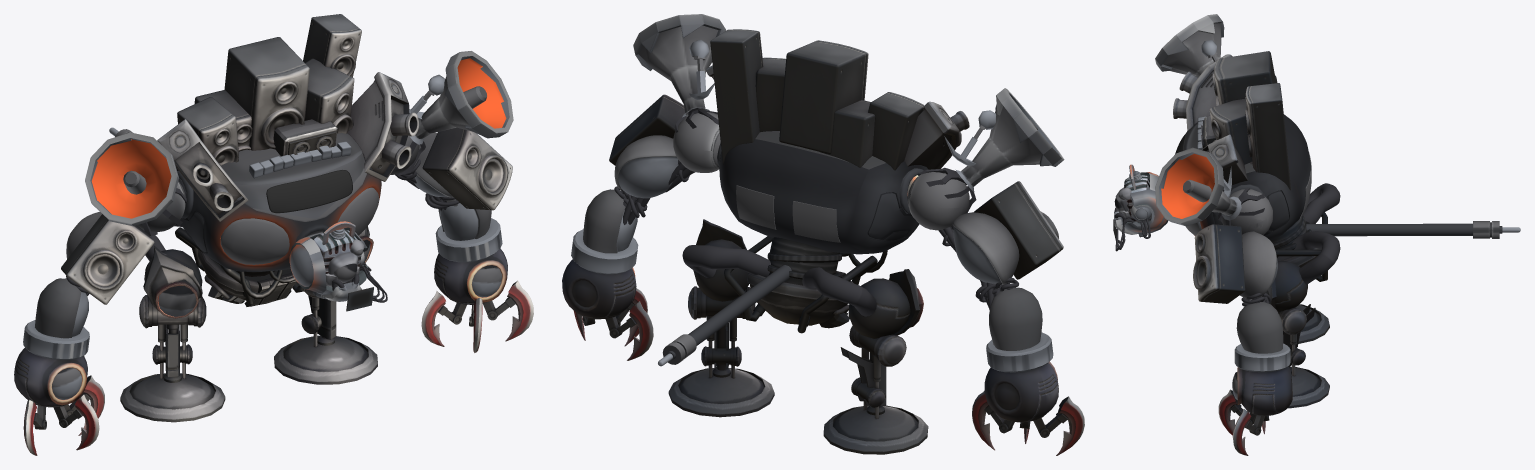
File: McMD_enemy.fbx
3 renders of one model, left to right at view 1: azimuth 30°, elevation 25°; view 2: azimuth 150°, elevation 25°; view 3: azimuth 270°, elevation 25°, orthographic. The views are drawn at different scales.
Parts seen in each view (by area): view 1: pasted__polySurface40, McMD_speaker3_cover_pasted__polySurface18, polySurface45, speaker9, polySurface59, McMD_speaker3_cover_pasted__polySurface14, polySurface62, pasted__polySurface18, ude3, cover1, pCylinder25, McMD_speaker3_cover_pasted__polySurface17 (+21 smaller); view 2: polySurface45, pasted__polySurface40, polySurface59, McMD_speaker3_cover_pasted__polySurface14, ude4, pasted__polySurface18, McMD_speaker3_cover_pasted__polySurface18, ude3, McMD_speaker4_cover_pasted__polySurface9, kata1, pasted__pCylinder22, polySurface51 (+21 smaller); view 3: pasted__polySurface40, polySurface45, McMD_speaker3_cover_pasted__polySurface18, McMD_speaker4_cover_pasted__polySurface9, speaker9, polySurface62, pasted__pasted__pasted__pCylinder17, pasted__pCylinder22, McMD_speaker3_cover_pasted__polySurface14, pasted__polySurface18, ude3, polySurface59 (+9 smaller).
Part boxes in pixels (x1,y1,x2,y2): pasted__polySurface40: [85, 51, 513, 235]; McMD_speaker3_cover_pasted__polySurface18: [61, 127, 512, 304]; polySurface45: [176, 133, 381, 271]; speaker9: [157, 72, 418, 221]; polySurface59: [120, 324, 377, 422]; McMD_speaker3_cover_pasted__polySurface14: [224, 37, 309, 150]; polySurface62: [289, 221, 387, 311]; pasted__polySurface18: [14, 248, 507, 407]; ude3: [35, 203, 491, 338]; cover1: [220, 187, 379, 264]; pCylinder25: [23, 218, 502, 360]; McMD_speaker3_cover_pasted__polySurface17: [305, 58, 354, 133]; polySurface45: [717, 131, 928, 254]; pasted__polySurface40: [633, 14, 1064, 212]; polySurface59: [668, 325, 928, 454]; McMD_speaker3_cover_pasted__polySurface14: [779, 40, 868, 153]; ude4: [614, 135, 1019, 284]; pasted__polySurface18: [562, 259, 1058, 422]; McMD_speaker3_cover_pasted__polySurface18: [609, 94, 1063, 279]; ude3: [583, 189, 1042, 350]; McMD_speaker4_cover_pasted__polySurface9: [710, 29, 763, 164]; kata1: [673, 112, 969, 230]; pasted__pCylinder22: [682, 245, 876, 316]; polySurface51: [848, 269, 923, 338]; pasted__polySurface40: [1155, 14, 1264, 226]; polySurface45: [1184, 114, 1311, 240]; McMD_speaker3_cover_pasted__polySurface18: [1193, 224, 1245, 303]; McMD_speaker4_cover_pasted__polySurface9: [1245, 83, 1290, 190]; speaker9: [1173, 54, 1247, 184]; polySurface62: [1113, 164, 1167, 251]; pasted__pasted__pasted__pCylinder17: [1306, 221, 1520, 238]; pasted__pCylinder22: [1277, 183, 1340, 284]; McMD_speaker3_cover_pasted__polySurface14: [1212, 51, 1276, 105]; pasted__polySurface18: [1237, 366, 1292, 415]; ude3: [1236, 302, 1283, 353]; polySurface59: [1283, 304, 1329, 408].
Bounding box in the file's own units: 29.75 × 19.79 × 24.35.
